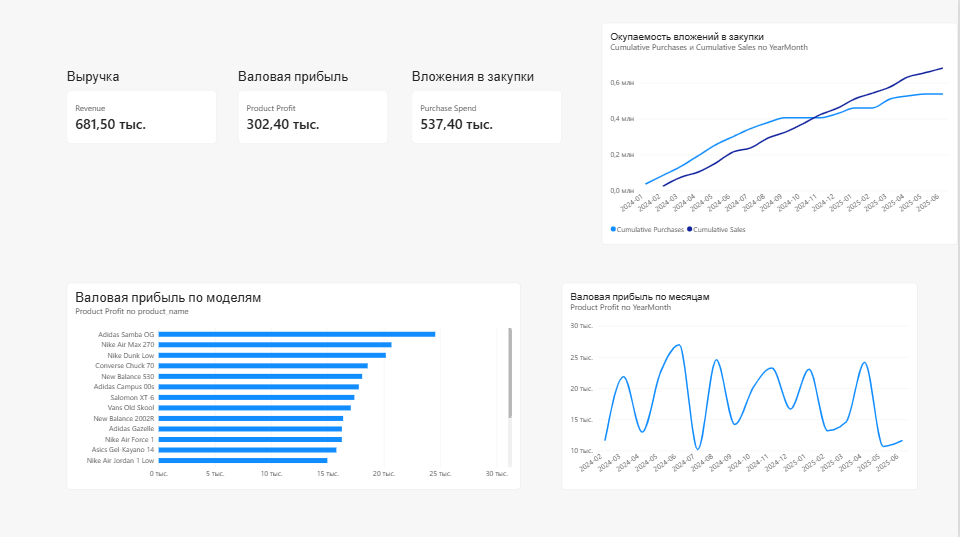

The dashboard page shown, as its layout file describes it:
{"tool":"powerbi","page":{"name":"Страница 1","canvas":[1920,1080],"ordinal":0},"visuals":[{"type":"cardVisual","title":"Выручка","fields":{"Data":["public payments.Revenue"]},"box":[137.5,140,300,150],"z":0},{"type":"cardVisual","title":"Валовая прибыль","fields":{"Data":["public order_items.Product Profit"]},"box":[480,140,300,150],"z":1},{"type":"cardVisual","title":"Вложения в закупки","fields":{"Data":["public purchases.Purchase Spend"]},"box":[827.5,140,300,150],"z":2},{"type":"clusteredBarChart","title":"Валовая прибыль по моделям","fields":{"Category":["public products.product_name"],"Y":["public order_items.Product Profit"]},"box":[137.5,567.5,907.7,413.7],"z":3},{"type":"lineChart","title":"Валовая прибыль по месяцам","fields":{"Category":["Calendar.YearMonth"],"Y":["public order_items.Product Profit"]},"box":[1127.5,567.5,712,414],"z":4},{"type":"lineChart","title":"Окупаемость вложений в закупки","fields":{"Category":["Calendar.YearMonth"],"Y":["public vw_product_cashflow.Cumulative Purchases","public vw_product_cashflow.Cumulative Sales"]},"box":[1208,48,712,444],"z":5}]}

Visuals, with their boxes in screenshot pixels (x1, y1, x2, y2), scaled from the page's 1920x1080 canvas onto the 960x537 screenshot:
"Выручка" cardVisual: x1=69, y1=70, x2=219, y2=144
"Валовая прибыль" cardVisual: x1=240, y1=70, x2=390, y2=144
"Вложения в закупки" cardVisual: x1=414, y1=70, x2=564, y2=144
"Валовая прибыль по моделям" clusteredBarChart: x1=69, y1=282, x2=523, y2=488
"Валовая прибыль по месяцам" lineChart: x1=564, y1=282, x2=920, y2=488
"Окупаемость вложений в закупки" lineChart: x1=604, y1=24, x2=959, y2=245
